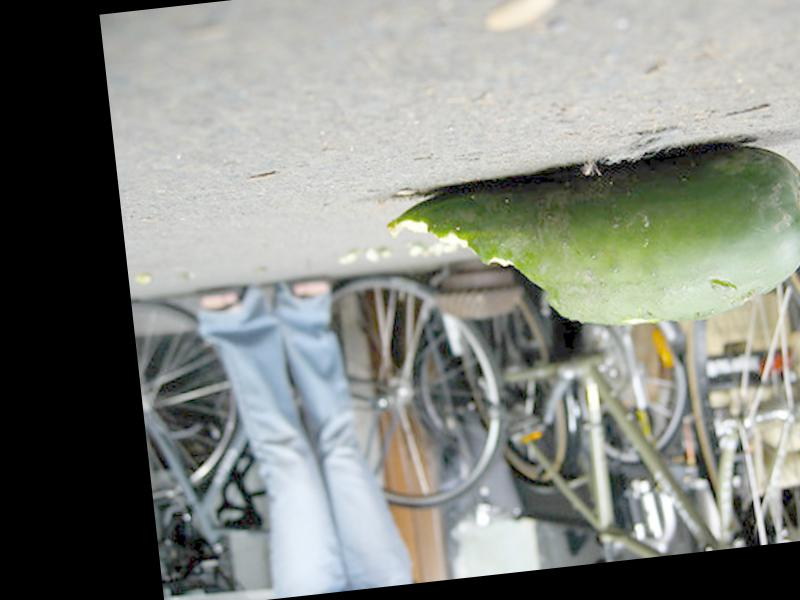Cucumber: (377, 138, 800, 351)
